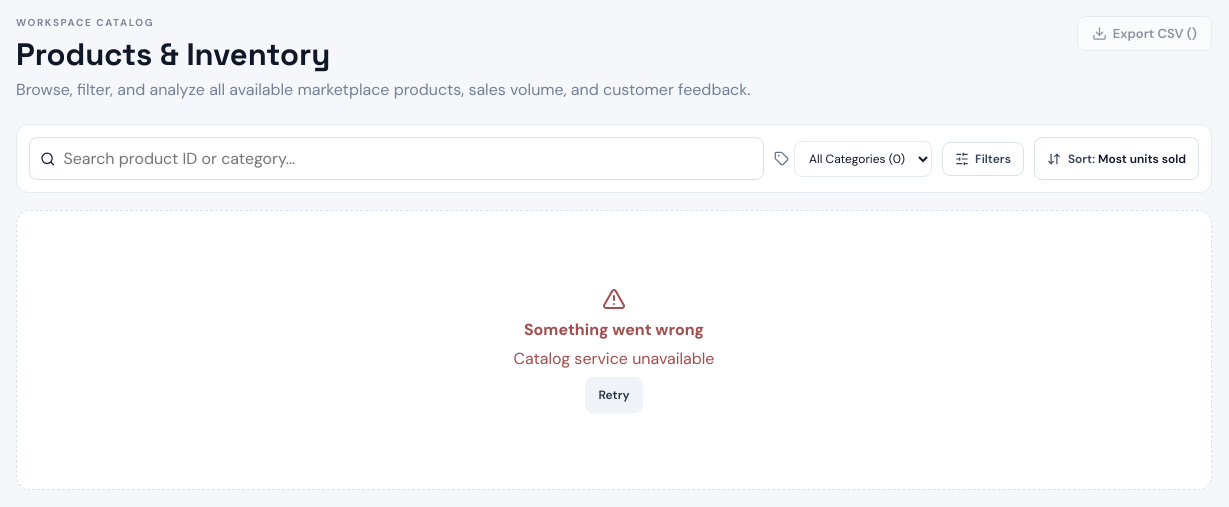
Test: Products Catalog Page › displays error state when products fail to load and retries
This screenshot has width=1229, height=507.
Expected: the text "Something went wrong" is shown, [524, 319, 704, 340]
Expected: the text "Catalog service unavailable" is shown, [514, 348, 714, 369]
Click the button "Retry" at point(614, 395), box [584, 377, 644, 413]
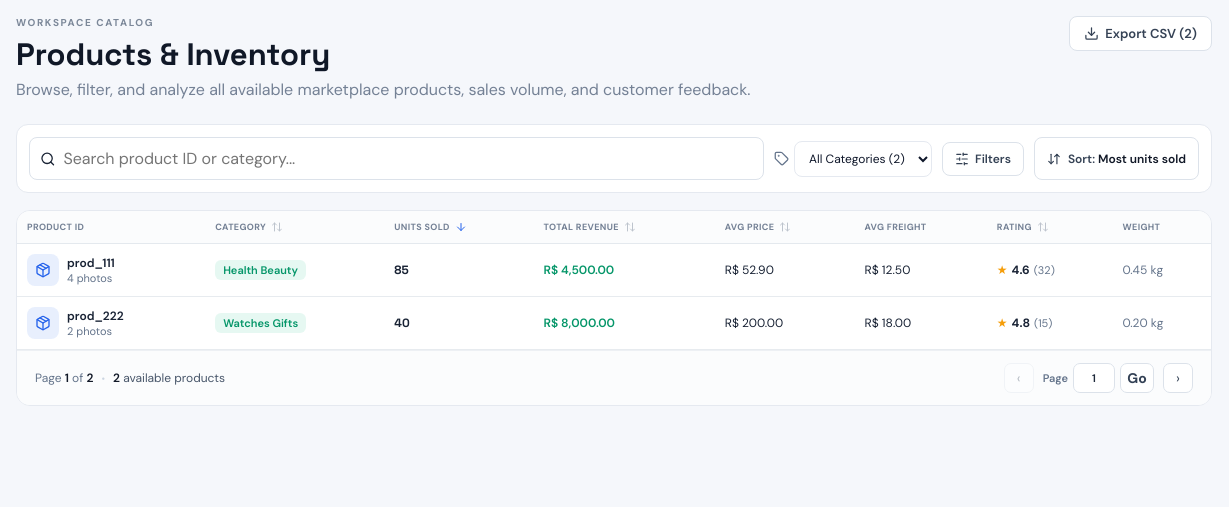
Expected: the text "prod_111" is shown, [67, 256, 115, 272]
